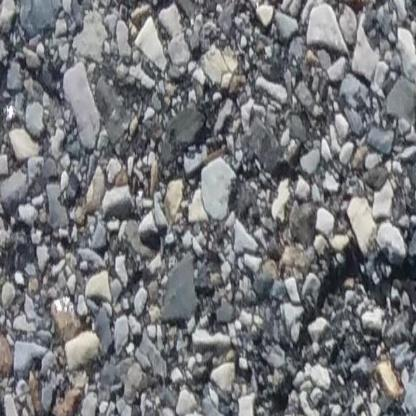Cracks: (269, 245, 416, 416)
